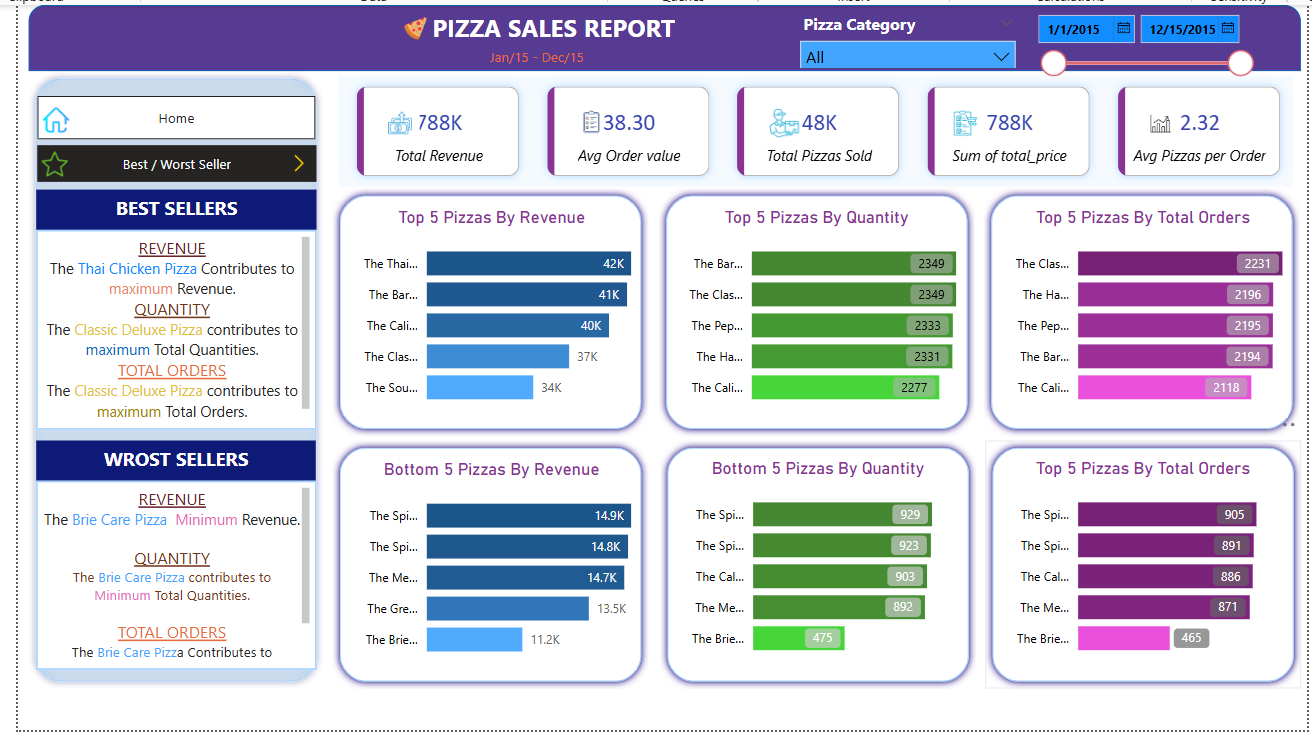

The dashboard page shown, as its layout file describes it:
{"tool":"powerbi","page":{"name":"Best / Worst Seller","canvas":[1280,720],"ordinal":1},"visuals":[{"type":"shape","box":[10.3,0,1264.2,65.9],"z":0},{"type":"textbox","box":[375,0,315,51.2],"z":1000},{"type":"textbox","box":[460,36.2,111.2,30],"z":2000},{"type":"image","box":[377.5,6.2,35,33.7],"z":3000},{"type":"shape","box":[960.7,432.6,313.8,246.6],"z":4000},{"type":"shape","box":[312.5,432.6,313.8,246.6],"z":5000},{"type":"shape","box":[637.9,432.6,313.8,246.6],"z":6000},{"type":"shape","box":[10.3,65.9,293.1,613.4],"z":7000},{"type":"textbox","box":[17.5,183.8,278.7,40],"z":8000},{"type":"textbox","box":[17.5,223.8,278.7,198.7],"z":9000},{"type":"textbox","box":[18.1,432.6,277.6,40],"z":10000},{"type":"textbox","box":[17.5,472.5,278.8,187.5],"z":11000},{"type":"slicer","fields":{"Values":["pizza_sales.pizza_category"]},"box":[767.5,2.5,233.8,60],"z":12000},{"type":"slicer","fields":{"Values":["pizza_sales.order_date"]},"box":[1001.2,0,243.8,75],"z":13000},{"type":"shape","box":[312.5,182.5,313.8,246.2],"z":14000},{"type":"shape","box":[636.2,182.5,313.8,246.2],"z":15000},{"type":"shape","box":[960,182.5,313.8,246.2],"z":16000},{"type":"barChart","title":"Top 5 Pizzas By Revenue","fields":{"Y":["pizza_sales.Total Revenue"],"Category":["pizza_sales.pizza_name"]},"box":[326.2,201.2,287.5,208.8],"z":17000},{"type":"barChart","title":"Bottom 5 Pizzas By Revenue","fields":{"Y":["pizza_sales.Total Revenue"],"Category":["pizza_sales.pizza_name"]},"box":[326.2,452.5,287.5,208.8],"z":18000},{"type":"barChart","title":"Top 5 Pizzas By Quantity","fields":{"Category":["pizza_sales.pizza_name"],"Y":["pizza_sales.Total Pizzas Sold"]},"box":[650,201.2,287.5,208.7],"z":19000},{"type":"barChart","title":"Bottom 5 Pizzas By Quantity","fields":{"Category":["pizza_sales.pizza_name"],"Y":["pizza_sales.Total Pizzas Sold"]},"box":[651.2,451.2,287.5,208.8],"z":20000},{"type":"barChart","title":"Top 5 Pizzas By Total Orders","fields":{"Category":["pizza_sales.pizza_name"],"Y":["pizza_sales.Total Orders"]},"box":[973.8,201.2,287.5,208.8],"z":21000},{"type":"barChart","title":"Top 5 Pizzas By Total Orders","fields":{"Category":["pizza_sales.pizza_name"],"Y":["pizza_sales.Total Orders"]},"box":[973.8,451.2,287.5,208.8],"z":22000},{"type":"pageNavigator","box":[18.8,140,277.5,36.2],"z":23000},{"type":"pageNavigator","box":[18.8,90,276.2,43.8],"z":24000},{"type":"image","box":[257.5,143.8,45,27.5],"z":25000},{"type":"image","box":[18.8,93.8,36.2,40],"z":26000},{"type":"image","box":[17.5,140,37.5,36.2],"z":27000},{"type":"cardVisual","fields":{"Data":["pizza_sales.Total Revenue","pizza_sales.Avg Order value","pizza_sales.Total Pizzas Sold","Sum(pizza_sales.total_price)","pizza_sales.Avg Pizzas per Order"]},"box":[312.5,64.6,960.7,121.4],"z":28000},{"type":"image","box":[358.8,98.1,40,37.4],"z":29000},{"type":"image","box":[920.5,99.4,41.3,36.1],"z":30000},{"type":"image","box":[552.5,98.1,33.6,36.1],"z":31000},{"type":"image","box":[739.7,96.8,42.6,40],"z":32000},{"type":"image","box":[1116.8,98.1,36.1,38.7],"z":33000}]}

Visuals, with their boxes on the page's 1280x720 design canvas (x1, y1, x2, y2). These are canvas units, not pixel positions in the 1312x739 screenshot, which may show the page scaled, cropped or inside an application window:
shape: (left=10, top=0, right=1274, bottom=66)
textbox: (left=375, top=0, right=690, bottom=51)
textbox: (left=460, top=36, right=571, bottom=66)
image: (left=378, top=6, right=412, bottom=40)
shape: (left=961, top=433, right=1274, bottom=679)
shape: (left=312, top=433, right=626, bottom=679)
shape: (left=638, top=433, right=952, bottom=679)
shape: (left=10, top=66, right=303, bottom=679)
textbox: (left=18, top=184, right=296, bottom=224)
textbox: (left=18, top=224, right=296, bottom=422)
textbox: (left=18, top=433, right=296, bottom=473)
textbox: (left=18, top=472, right=296, bottom=660)
slicer - pizza_sales.pizza_category: (left=768, top=2, right=1001, bottom=62)
slicer - pizza_sales.order_date: (left=1001, top=0, right=1245, bottom=75)
shape: (left=312, top=182, right=626, bottom=429)
shape: (left=636, top=182, right=950, bottom=429)
shape: (left=960, top=182, right=1274, bottom=429)
"Top 5 Pizzas By Revenue" barChart: (left=326, top=201, right=614, bottom=410)
"Bottom 5 Pizzas By Revenue" barChart: (left=326, top=452, right=614, bottom=661)
"Top 5 Pizzas By Quantity" barChart: (left=650, top=201, right=938, bottom=410)
"Bottom 5 Pizzas By Quantity" barChart: (left=651, top=451, right=939, bottom=660)
"Top 5 Pizzas By Total Orders" barChart: (left=974, top=201, right=1261, bottom=410)
"Top 5 Pizzas By Total Orders" barChart: (left=974, top=451, right=1261, bottom=660)
pageNavigator: (left=19, top=140, right=296, bottom=176)
pageNavigator: (left=19, top=90, right=295, bottom=134)
image: (left=258, top=144, right=302, bottom=171)
image: (left=19, top=94, right=55, bottom=134)
image: (left=18, top=140, right=55, bottom=176)
cardVisual - pizza_sales.Total Revenue x pizza_sales.Avg Order value: (left=312, top=65, right=1273, bottom=186)
image: (left=359, top=98, right=399, bottom=136)
image: (left=920, top=99, right=962, bottom=136)
image: (left=552, top=98, right=586, bottom=134)
image: (left=740, top=97, right=782, bottom=137)
image: (left=1117, top=98, right=1153, bottom=137)
